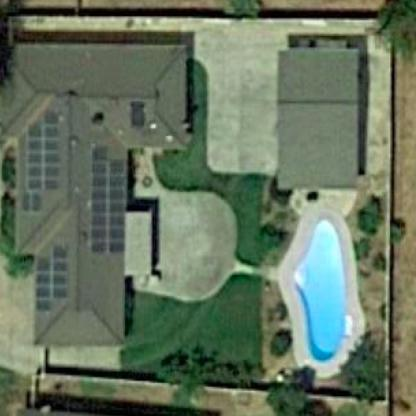solar_panel: (82, 136, 133, 262), (12, 102, 66, 215), (36, 238, 74, 313)
swimming_pool: (283, 197, 369, 377)
